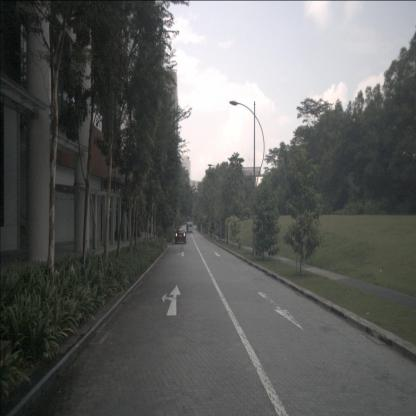vehicle-car: (175, 228, 186, 243), (186, 224, 193, 233)
